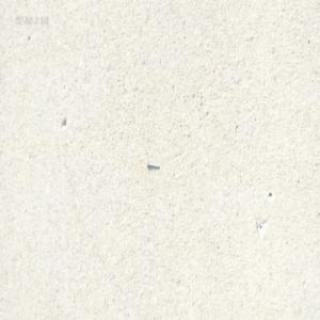Nailtrack_idkeyframe: (145, 160, 158, 168)
